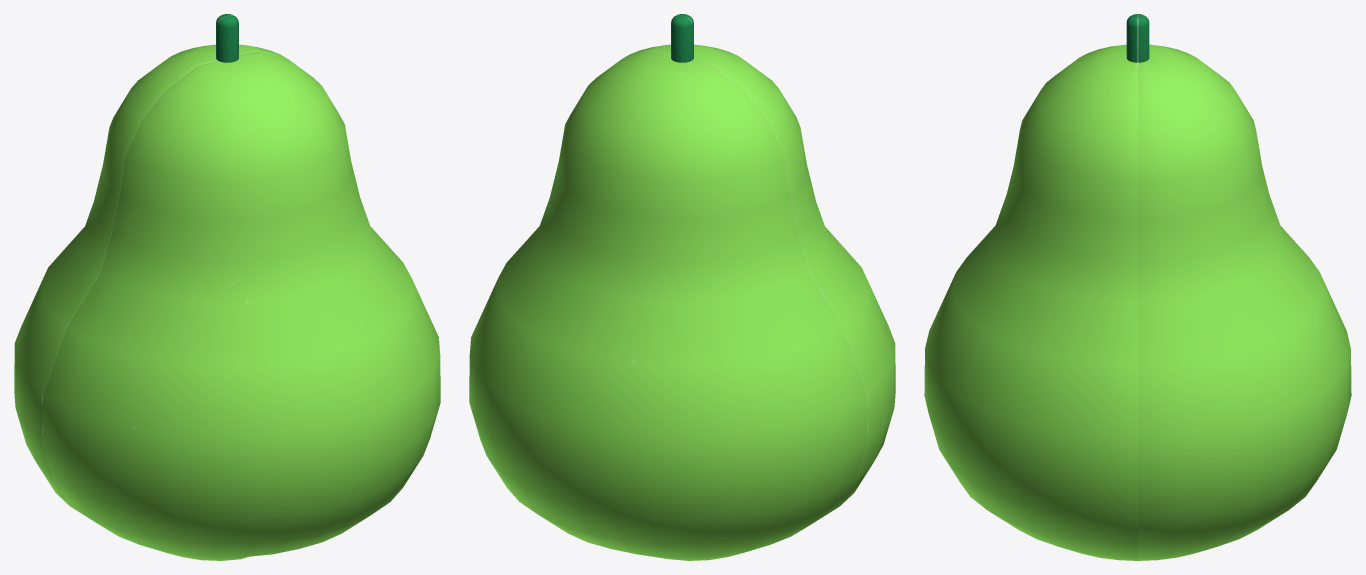
The model's file is Split_PearToy.fbx.
3 views of the same model, side by side, from view 1: azimuth 30°, elevation 25°; view 2: azimuth 150°, elevation 25°; view 3: azimuth 270°, elevation 25° (orthographic).
Parts seen in each view (by area): view 1: Pear.001, Pear; view 2: Pear, Pear.001; view 3: Pear, Pear.001.
Boxes of the visible parts, x1,y1,x2,y2 form: Pear.001: [42, 15, 440, 560]; Pear: [14, 14, 287, 505]; Pear: [469, 15, 867, 560]; Pear.001: [622, 14, 895, 505]; Pear: [1138, 14, 1351, 560]; Pear.001: [924, 14, 1137, 560].
Bounding box in the file's own units: 1.61 × 2.14 × 1.61.
